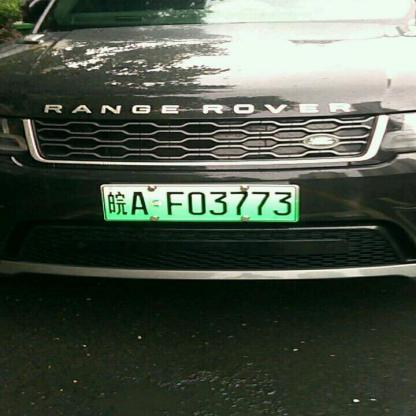lp: (102, 185, 298, 220)
